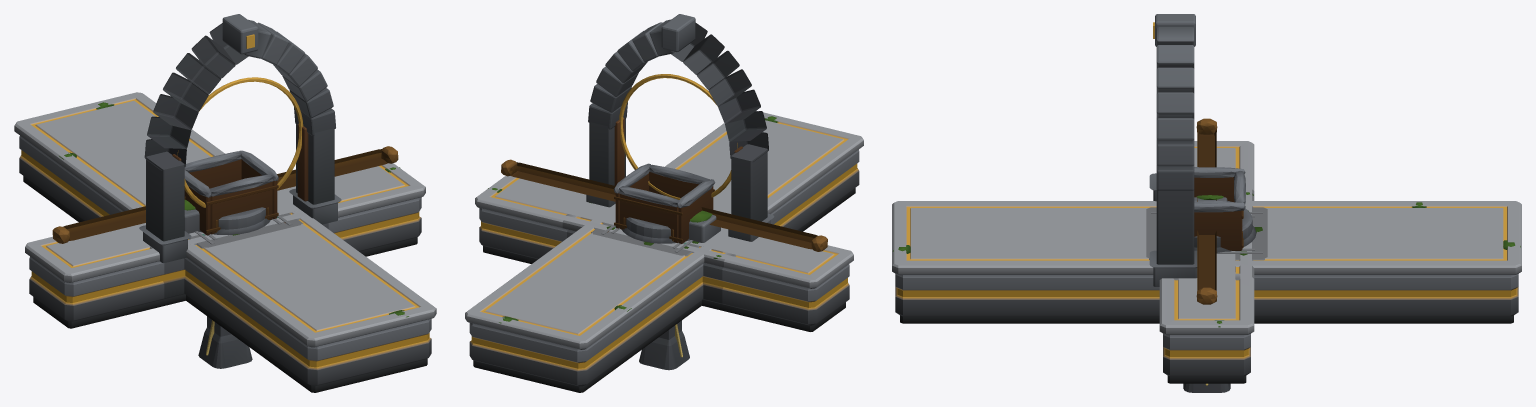
File: temple-2-DQmNcrCH.glb
3 renders of one model, left to right at view 1: azimuth 30°, elevation 25°; view 2: azimuth 150°, elevation 25°; view 3: azimuth 270°, elevation 25°, orthographic. The views are drawn at different scales.
Parts seen in each view (by area): view 1: block_10x2x40#0, portal_#0, block_28x2x6#0, hopper_4x3#0, mount_12.7#0, support_1_square#0, geyserVent_3.9#0, block_8x2x8#0, block_14x2x6#0, boltPost_#0; view 2: block_10x2x40#0, block_28x2x6#0, portal_#0, hopper_4x3#0, mount_12.7#0, support_1_square#0, block_14x2x6#0, geyserVent_3.9#0, boltPost_#0, block_8x2x8#0; view 3: block_10x2x40#0, block_28x2x6#0, portal_#0, hopper_4x3#0, mount_12.7#0, block_8x2x8#0, geyserVent_3.9#0.
Part boxes in pixels (<box>): block_10x2x40#0: <box>14,92,436,392</box>; portal_#0: <box>139,14,341,262</box>; block_28x2x6#0: <box>25,163,425,328</box>; hopper_4x3#0: <box>184,150,278,235</box>; mount_12.7#0: <box>52,146,398,243</box>; support_1_square#0: <box>198,316,252,368</box>; geyserVent_3.9#0: <box>198,207,270,235</box>; block_8x2x8#0: <box>189,213,303,248</box>; block_14x2x6#0: <box>149,212,328,298</box>; boltPost_#0: <box>184,199,199,233</box>; block_10x2x40#0: <box>465,110,863,392</box>; block_28x2x6#0: <box>475,176,853,331</box>; portal_#0: <box>586,14,774,241</box>; hopper_4x3#0: <box>613,163,715,243</box>; mount_12.7#0: <box>501,159,827,251</box>; support_1_square#0: <box>639,320,689,370</box>; block_14x2x6#0: <box>562,202,735,303</box>; geyserVent_3.9#0: <box>622,217,689,243</box>; boltPost_#0: <box>689,210,720,242</box>; block_8x2x8#0: <box>591,223,699,256</box>; block_10x2x40#0: <box>892,201,1521,323</box>; block_28x2x6#0: <box>1159,141,1254,383</box>; portal_#0: <box>1149,14,1197,286</box>; hopper_4x3#0: <box>1194,167,1245,250</box>; mount_12.7#0: <box>1196,118,1217,304</box>; block_8x2x8#0: <box>1146,207,1267,260</box>; geyserVent_3.9#0: <box>1194,200,1256,252</box>.
Size of the model in its own units: 28 by 25.59 by 40.
